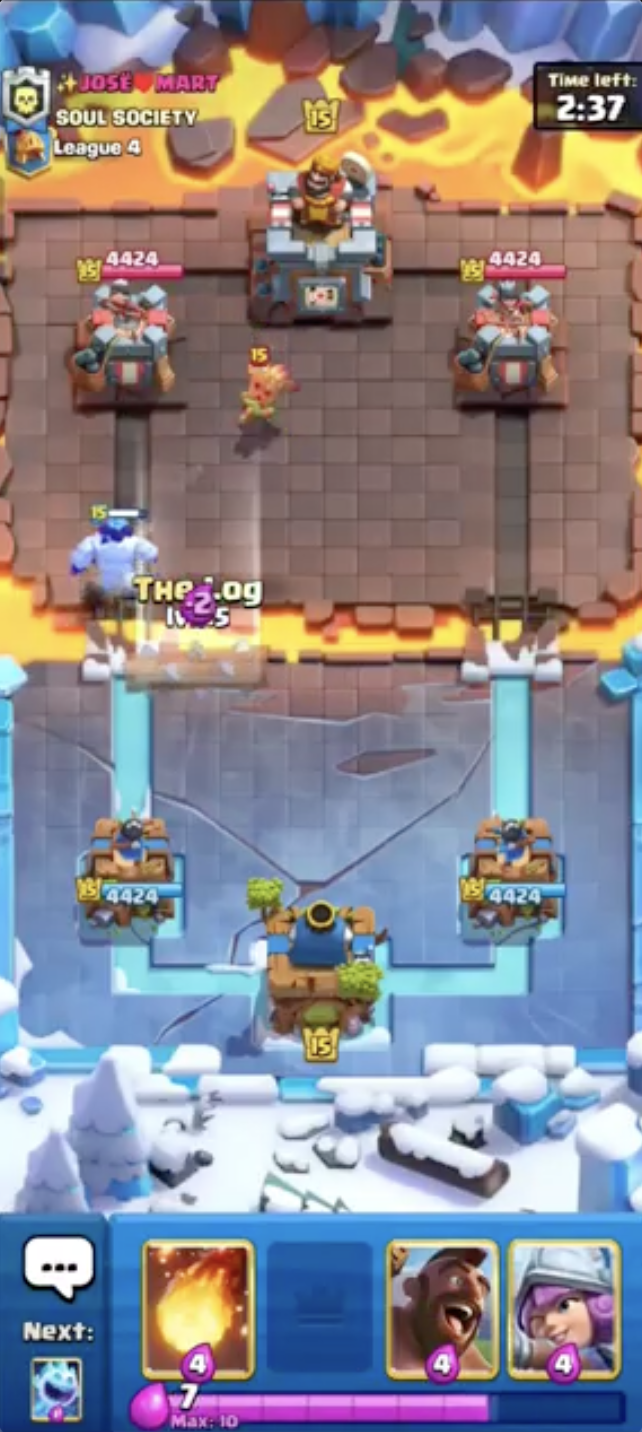ice-golem: (65, 494, 169, 610)
log: (117, 635, 278, 692)
